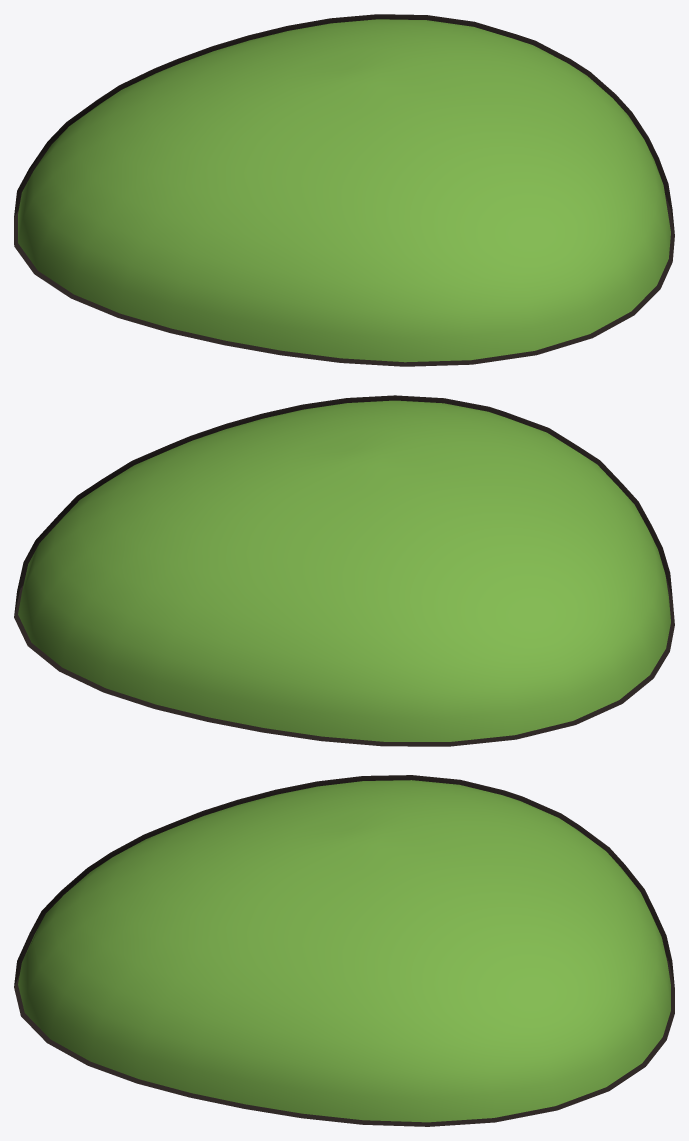
Rendered from BG_Hill_B.fbx.
3 views of the same model, one above another, from view 1: azimuth 30°, elevation 25°; view 2: azimuth 150°, elevation 25°; view 3: azimuth 270°, elevation 25° (orthographic).
Visible parts, largest first — view 1: BG_Hill_B_HillDark, BG_Hill_B_Outline; view 2: BG_Hill_B_HillDark, BG_Hill_B_Outline; view 3: BG_Hill_B_HillDark, BG_Hill_B_Outline.
Part boxes in pixels (left/top/right/bottom): BG_Hill_B_HillDark: left=18, top=19, right=670, bottom=362; BG_Hill_B_Outline: left=14, top=14, right=674, bottom=366; BG_Hill_B_HillDark: left=18, top=400, right=670, bottom=741; BG_Hill_B_Outline: left=14, top=395, right=674, bottom=746; BG_Hill_B_HillDark: left=18, top=780, right=670, bottom=1122; BG_Hill_B_Outline: left=14, top=775, right=674, bottom=1126.
Size of the model in its own units: 32.78 by 8.46 by 32.4.
